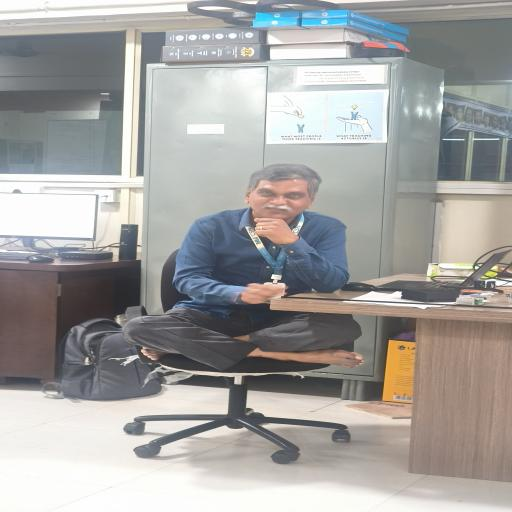survivor: (121, 163, 365, 372)
